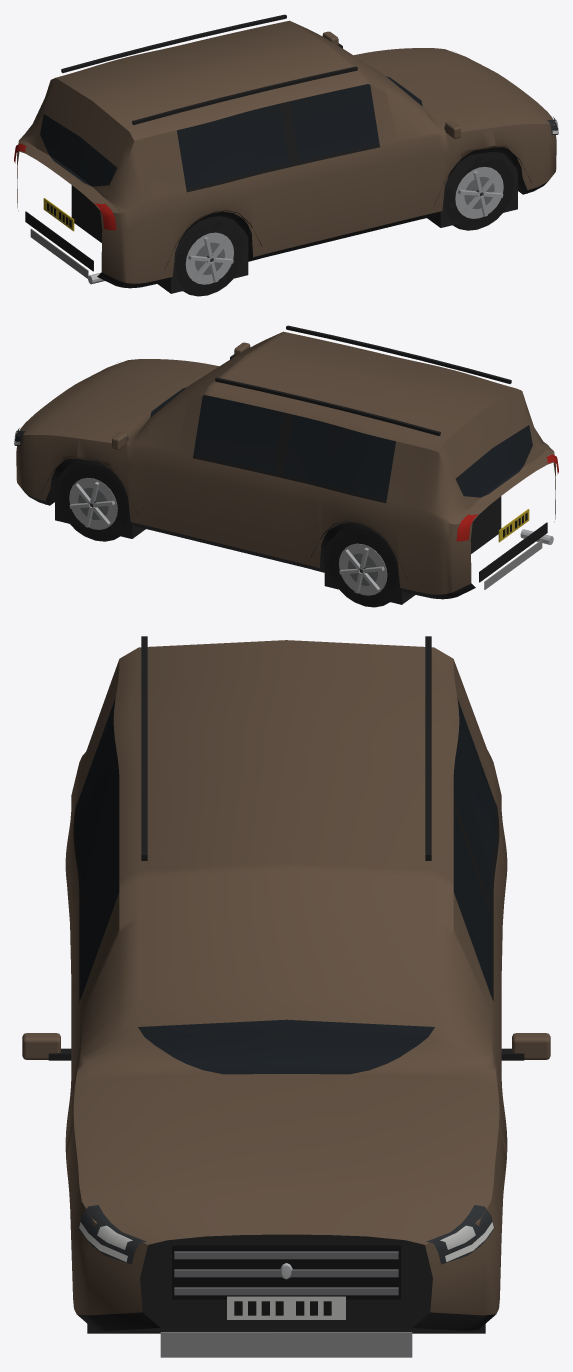
File: SM_Prop_parked_car_109.glb
The picture shows the model from 3 angles, top to bottom: view 1: azimuth 30°, elevation 25°; view 2: azimuth 150°, elevation 25°; view 3: azimuth 270°, elevation 25°; orthographic projection. The views are drawn at different scales.
Parts seen in each view (by area): view 1: SM_Prop_parked_car_109; view 2: SM_Prop_parked_car_109; view 3: SM_Prop_parked_car_109.
Part boxes in pixels (left/top/right/bottom): SM_Prop_parked_car_109: left=14, top=14, right=558, bottom=296; SM_Prop_parked_car_109: left=14, top=325, right=558, bottom=607; SM_Prop_parked_car_109: left=22, top=636, right=550, bottom=1357.
Bounding box in the file's own units: 4.68 × 1.75 × 2.31.
